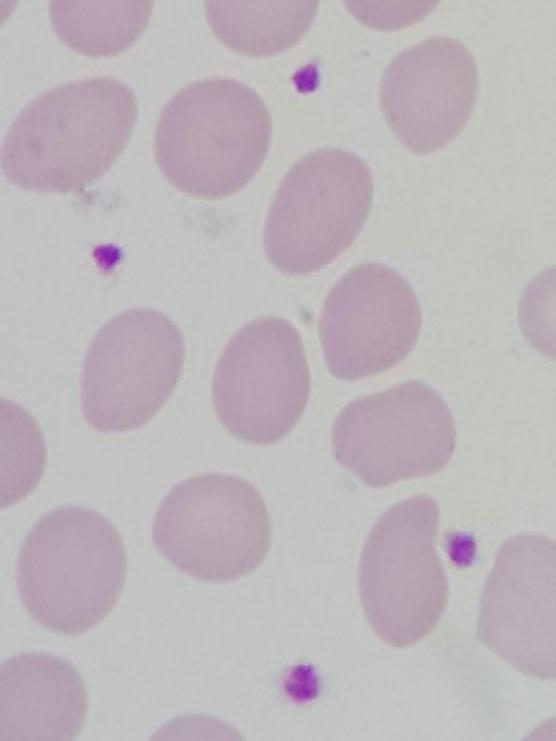Uninfected: (0, 73, 138, 193), (355, 495, 449, 648), (16, 506, 124, 634), (155, 79, 272, 196), (261, 150, 373, 272), (330, 381, 455, 488), (79, 307, 184, 431), (211, 317, 312, 445), (153, 474, 270, 583), (317, 263, 422, 379), (475, 531, 552, 684), (378, 38, 478, 151), (0, 652, 84, 738)
